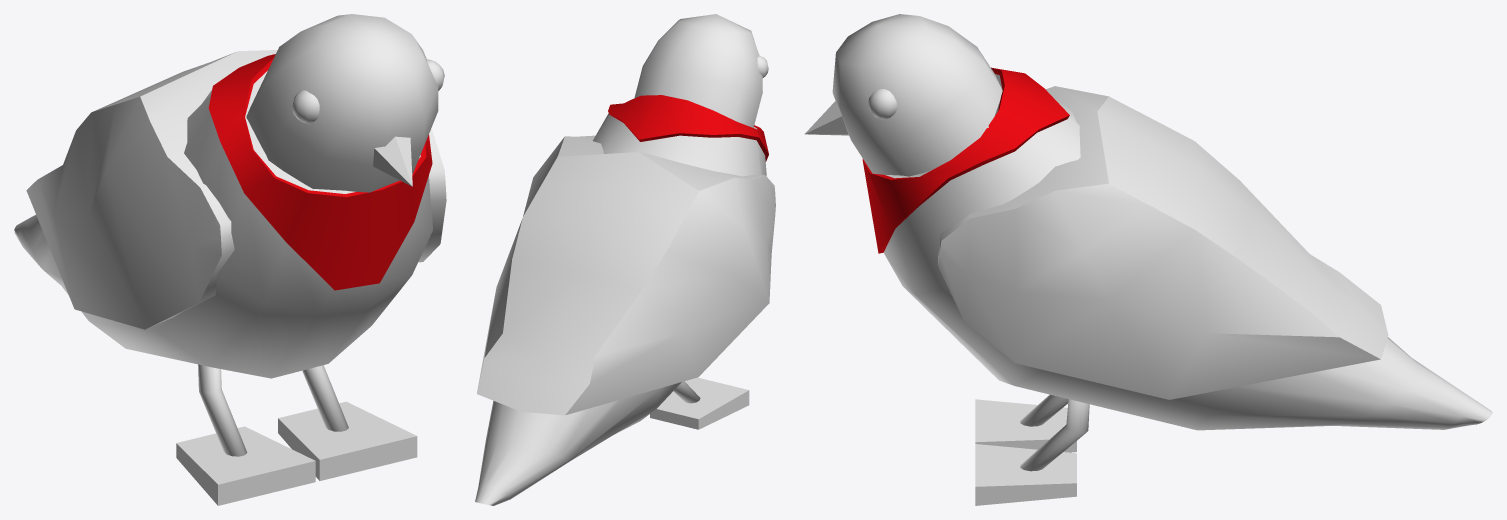
Rendered from metalBirb.fbx.
The picture shows the model from 3 angles, left to right: view 1: azimuth 30°, elevation 25°; view 2: azimuth 150°, elevation 25°; view 3: azimuth 270°, elevation 25°; orthographic projection. The views are drawn at different scales.
Parts seen in each view (by area): view 1: body, wings, head, Feets, Legs, Beak, Eyes; view 2: wings, body, head, Feets, Legs; view 3: wings, body, head, Feets, Legs, Beak.
Part boxes in pixels (x1=…): body: x1=14, y1=54, x2=432, y2=378; wings: x1=26, y1=50, x2=446, y2=329; head: x1=246, y1=14, x2=438, y2=192; Feets: x1=176, y1=401, x2=417, y2=505; Legs: x1=198, y1=364, x2=348, y2=456; Beak: x1=373, y1=136, x2=412, y2=186; Eyes: x1=292, y1=59, x2=444, y2=123; wings: x1=477, y1=135, x2=775, y2=415; body: x1=475, y1=95, x2=768, y2=505; head: x1=634, y1=14, x2=762, y2=127; Feets: x1=650, y1=377, x2=749, y2=429; Legs: x1=673, y1=381, x2=700, y2=403; wings: x1=938, y1=86, x2=1388, y2=399; body: x1=862, y1=67, x2=1492, y2=430; head: x1=832, y1=14, x2=1002, y2=176; Feets: x1=975, y1=399, x2=1076, y2=505; Legs: x1=1020, y1=394, x2=1089, y2=471; Beak: x1=804, y1=101, x2=848, y2=135.
Size of the model in its own units: 15.29 by 23.79 by 33.89.
